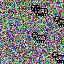sheep: (32, 32, 46, 43), (52, 52, 64, 63), (54, 15, 64, 27)
